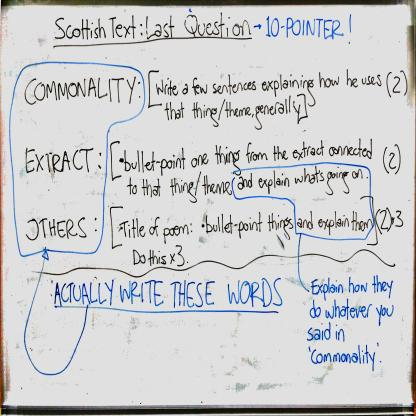Handwritten text: (119, 165, 367, 216), (112, 206, 373, 246), (51, 272, 289, 315), (118, 140, 380, 174), (50, 6, 256, 43), (155, 68, 384, 98), (21, 69, 138, 111), (160, 96, 306, 127), (20, 138, 93, 183), (299, 296, 397, 326), (307, 341, 383, 377), (305, 274, 395, 302), (22, 210, 86, 248), (279, 13, 344, 45), (128, 247, 169, 269), (304, 322, 349, 342)
Whiteboard: (1, 3, 412, 402)
